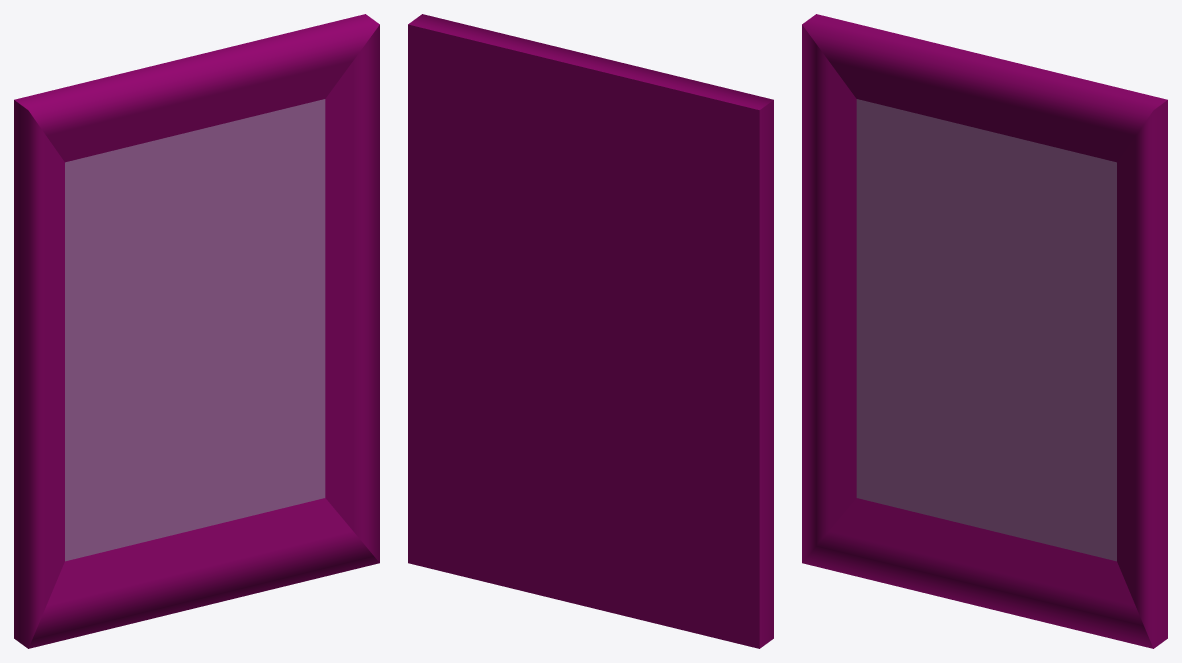
Rendered from pictureframelarge.fbx.
3 views of the same model, side by side, from view 1: azimuth 30°, elevation 25°; view 2: azimuth 150°, elevation 25°; view 3: azimuth 330°, elevation 25° (orthographic).
Visible parts, largest first — view 1: PictureFrame; view 2: PictureFrame; view 3: PictureFrame.
Part boxes in pixels (left/top/right/bottom): PictureFrame: left=14, top=14, right=379, bottom=648; PictureFrame: left=408, top=14, right=773, bottom=648; PictureFrame: left=802, top=14, right=1167, bottom=648.
Size of the model in its own units: 30.13 by 44.11 by 2.12.
